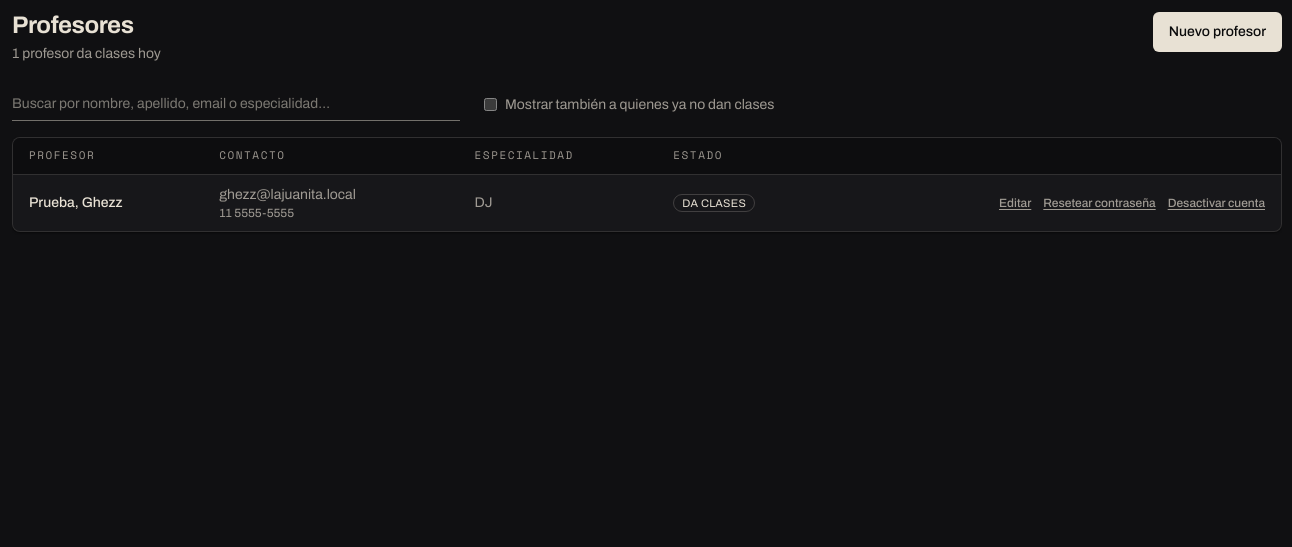
Test: las acciones sobre la cuenta, iguales a las de Equipo › resetear la contraseña la muestra una vez, con el WhatsApp que dice que vence
Check: the text "Prueba, Ghezz" is shown, box [29, 195, 123, 210]
Click the button "Resetear contraseña". click: x=1100, y=203
box: [1043, 195, 1156, 211]
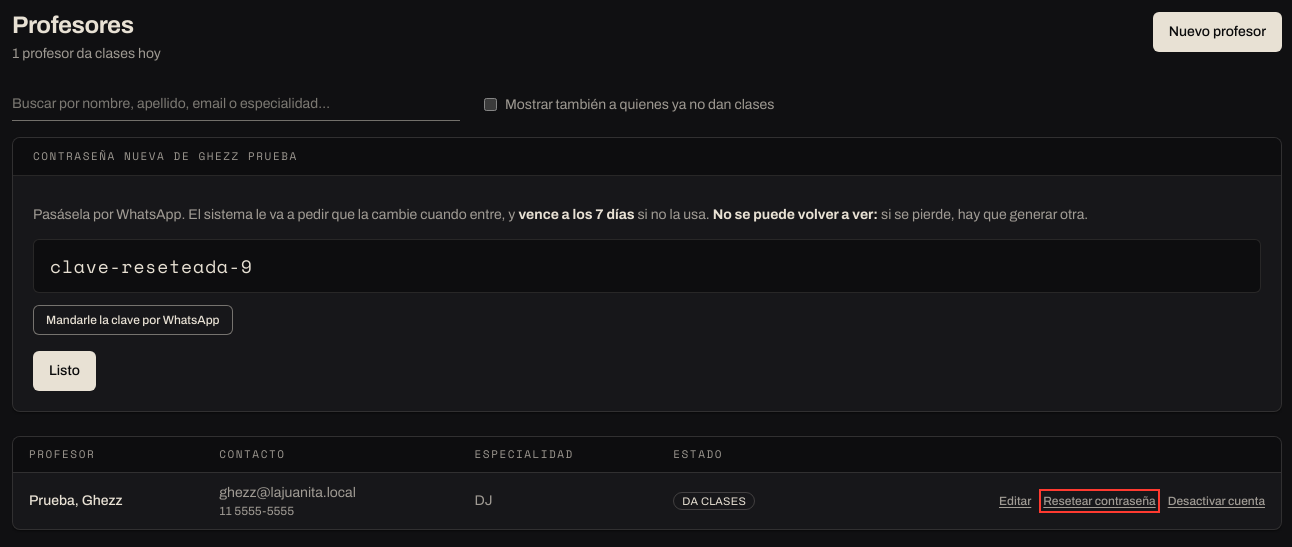
Check: the text "clave-reseteada-9" is shown, box [33, 239, 1261, 293]
Check: the heading "Contraseña nueva de Ghezz Prueba" is shown, box [33, 148, 298, 165]
